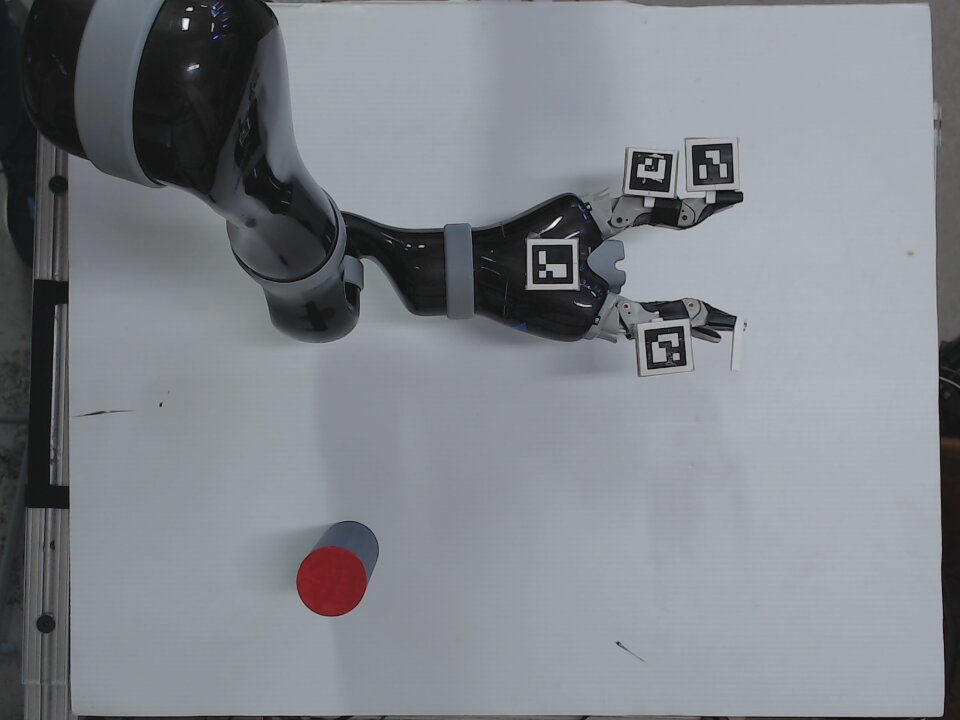cylinder: (292, 517, 383, 622)
